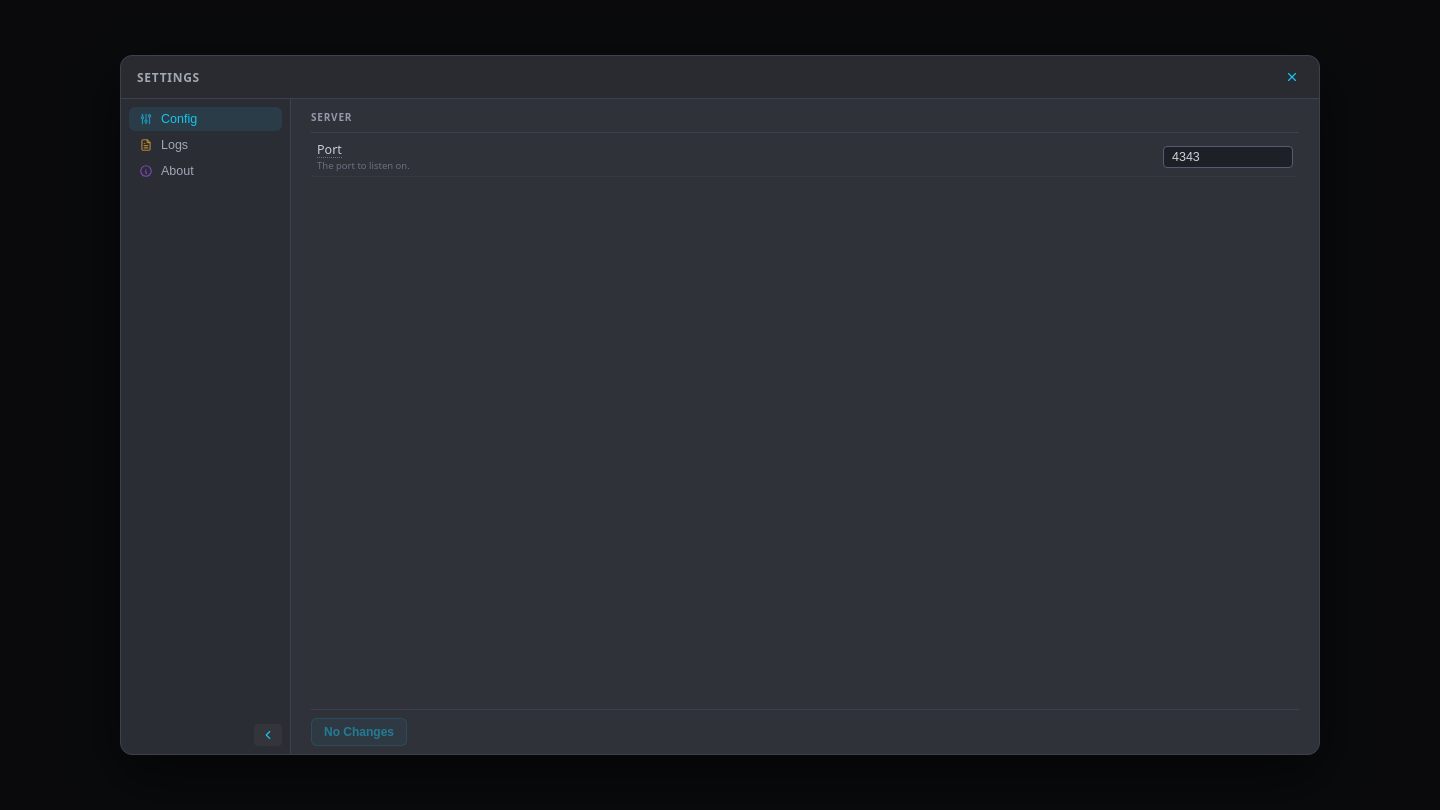
ConfigTab › saves successfully, applies the new value, and shows a restart banner
The width and height of the screenshot is (1440, 810).
Expected: the text "Port" is shown, [317, 142, 342, 158]
Replace the text in the number field with "9000" at (1228, 157), box [1163, 146, 1293, 168]
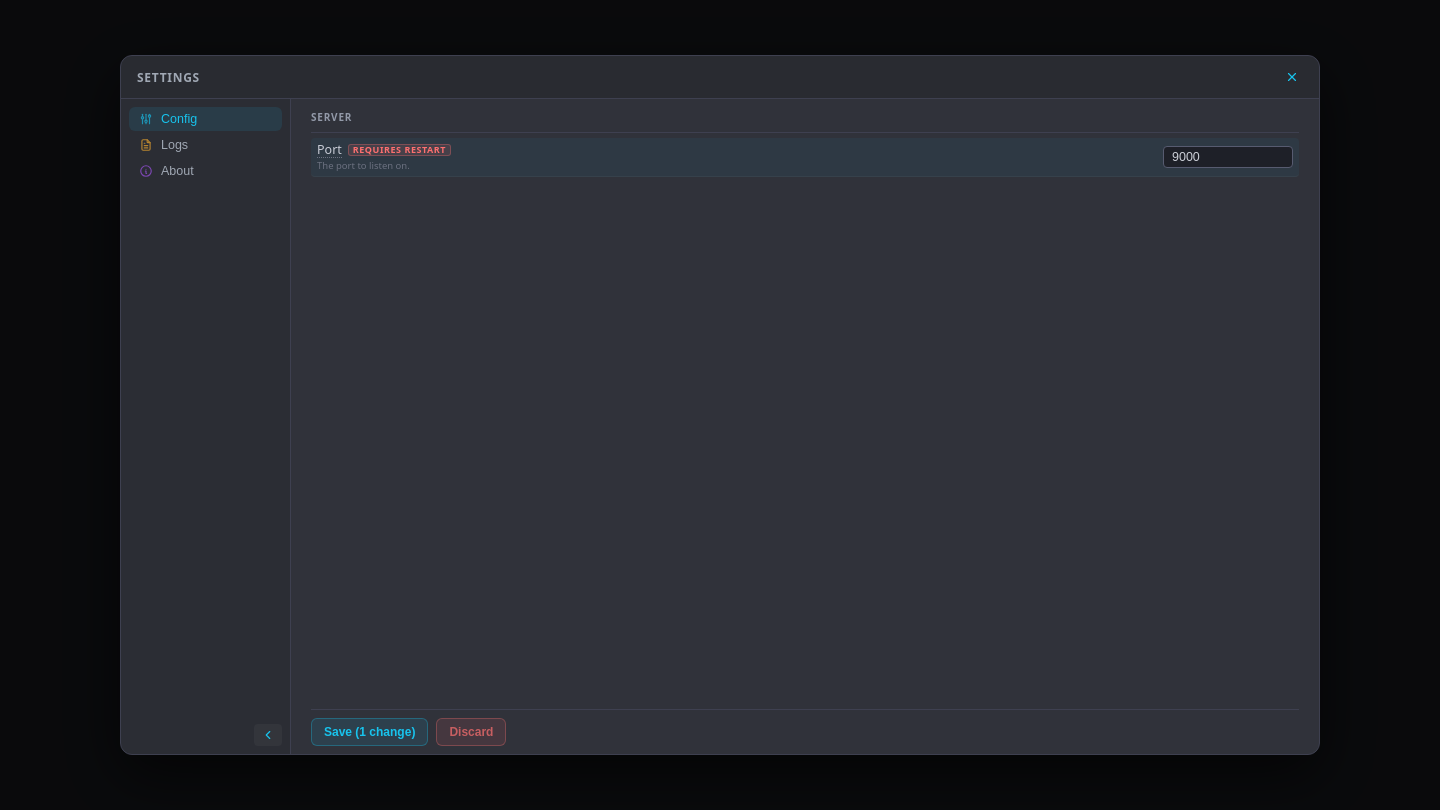
Click the button "Save (1 change)" at (370, 732), box [311, 718, 428, 746]
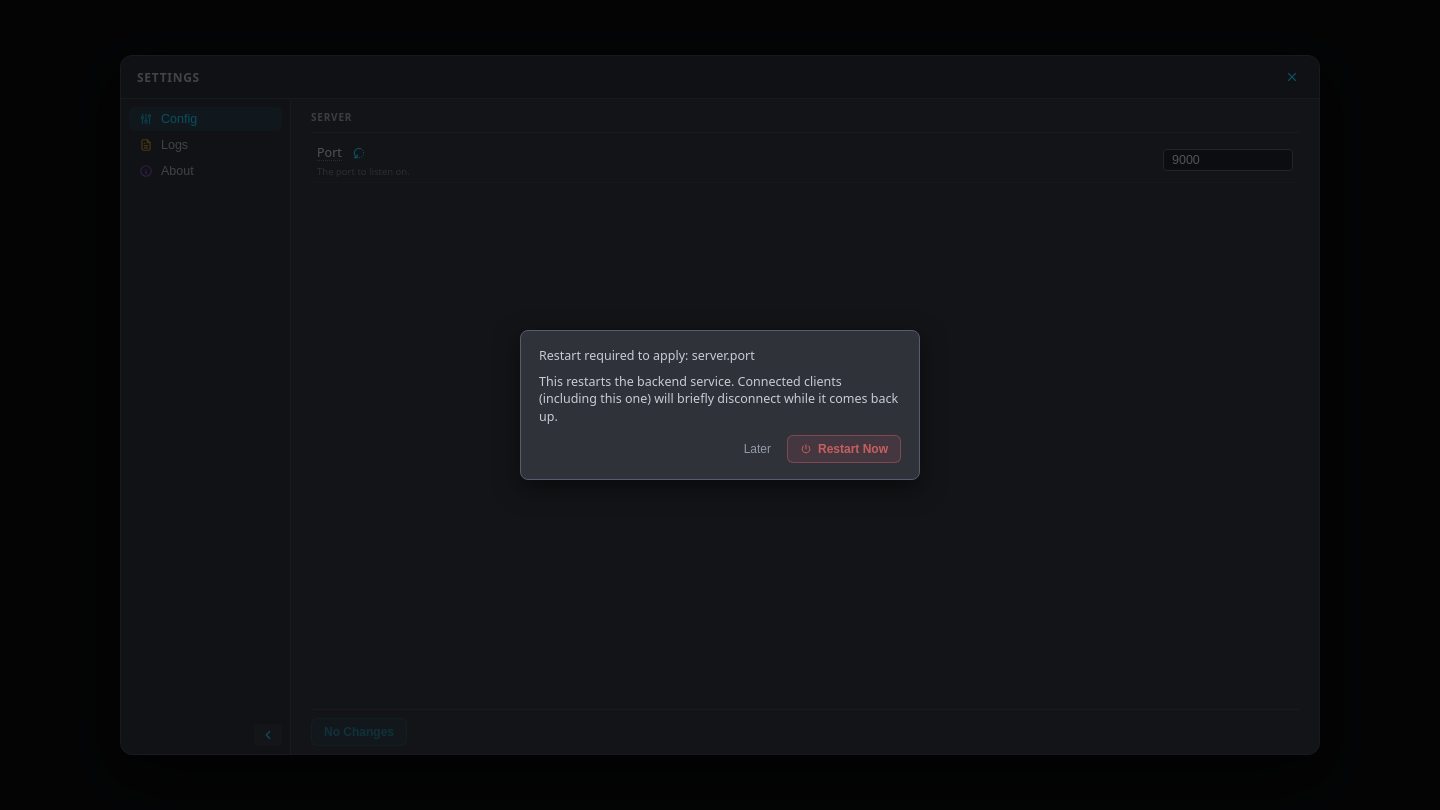
Result: the text "Restart required to apply: server.port" is shown at [539, 347, 755, 364]
Result: the button "No Changes" is disabled at [311, 718, 407, 746]
